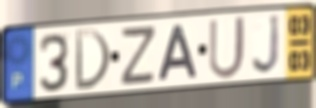3: (38, 31, 71, 94)
A: (156, 23, 200, 84)
D: (73, 27, 113, 92)
J: (250, 12, 282, 77)
U: (207, 14, 248, 82)
Z: (118, 23, 159, 88)
